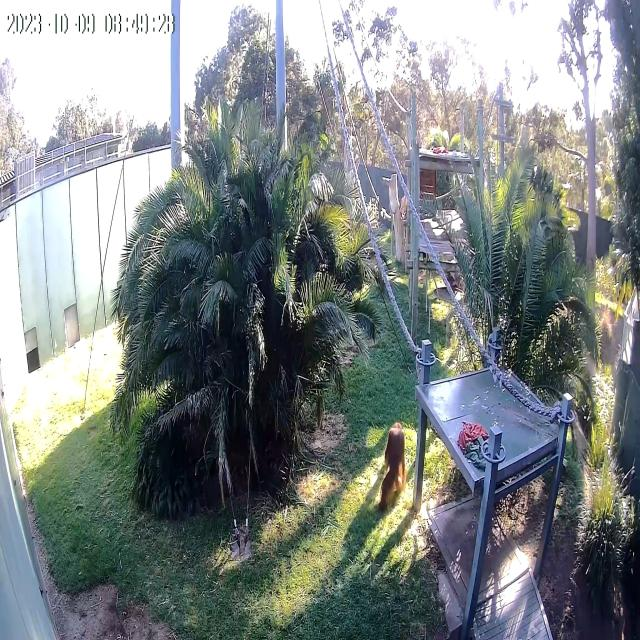orangutan: (382, 422, 405, 506)
